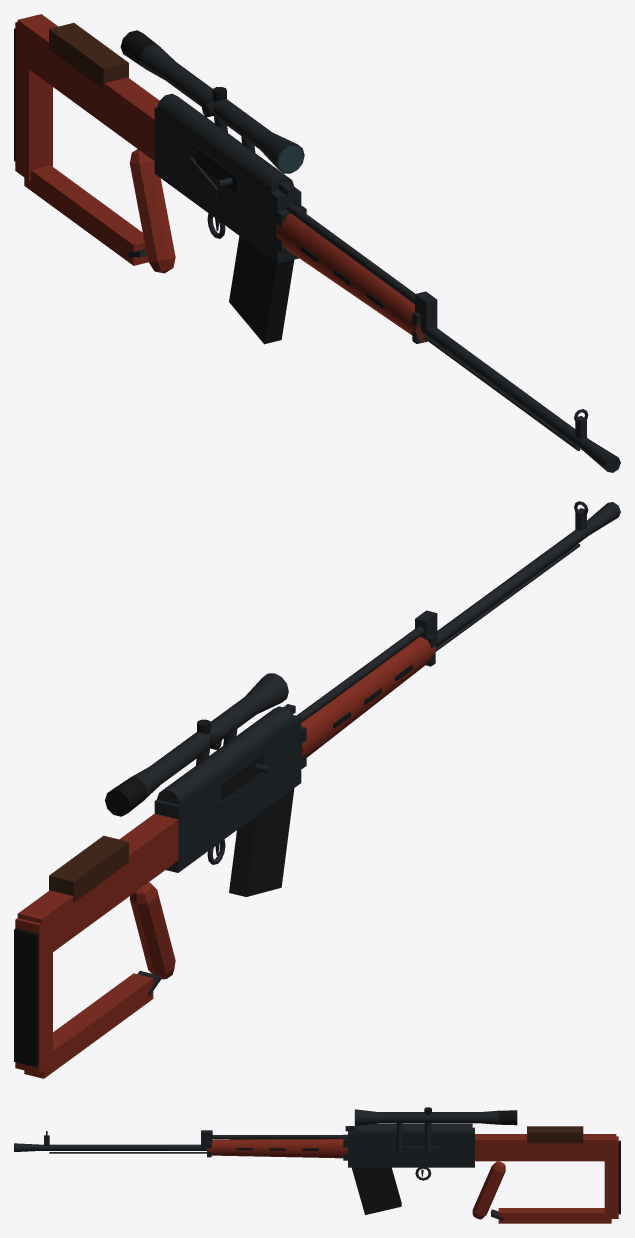
The model's file is dragunov-svd.glb.
3 views of the same model, one above another, from view 1: azimuth 30°, elevation 25°; view 2: azimuth 150°, elevation 25°; view 3: azimuth 270°, elevation 25° (orthographic). The views are drawn at different scales.
Visible parts, largest first — view 1: Mesh_Stock, Mesh_Receiver, Mesh_Handguard, Mesh_Magazine, Mesh_ReceiverCover, Mesh_CheekRest, Mesh_Barrel, Mesh_ScopeBody, Mesh_GasTube, Mesh_ScopeFrontFlare, Mesh_CleaningRod, Mesh_BoltCarrier (+4 smaller); view 2: Mesh_Stock, Mesh_Receiver, Mesh_Magazine, Mesh_Handguard, Mesh_ReceiverCover, Mesh_ButtPad, Mesh_CheekRest, Mesh_ScopeBody, Mesh_Barrel, Mesh_GasTube, Mesh_ScopeEyeCup, Mesh_ScopeFrontFlare; view 3: Mesh_Stock, Mesh_Receiver, Mesh_Handguard, Mesh_Magazine, Mesh_ScopeBody, Mesh_ReceiverCover, Mesh_Barrel, Mesh_CheekRest, Mesh_GasTube, Mesh_ScopeRail, Mesh_ScopeFrontFlare, Mesh_CleaningRod (+6 smaller).
Boxes of the visible parts, left/top/right/bottom form: Mesh_Stock: left=15, top=14, right=175, bottom=273; Mesh_Receiver: left=154, top=107, right=301, bottom=263; Mesh_Handguard: left=275, top=213, right=427, bottom=342; Mesh_Magazine: left=229, top=236, right=294, bottom=344; Mesh_ReceiverCover: left=157, top=93, right=294, bottom=192; Mesh_CheekRest: left=49, top=23, right=128, bottom=89; Mesh_Barrel: left=420, top=326, right=588, bottom=449; Mesh_ScopeBody: left=160, top=60, right=271, bottom=148; Mesh_GasTube: left=285, top=203, right=415, bottom=304; Mesh_ScopeFrontFlare: left=258, top=132, right=304, bottom=173; Mesh_CleaningRod: left=424, top=336, right=580, bottom=450; Mesh_BoltCarrier: left=196, top=147, right=238, bottom=194; Mesh_Stock: left=15, top=813, right=178, bottom=1078; Mesh_Receiver: left=154, top=715, right=301, bottom=872; Mesh_Magazine: left=229, top=788, right=294, bottom=896; Mesh_Handguard: left=301, top=636, right=436, bottom=759; Mesh_ReceiverCover: left=157, top=706, right=294, bottom=805; Mesh_ButtPad: left=14, top=928, right=38, bottom=1066; Mesh_CheekRest: left=49, top=835, right=128, bottom=902; Mesh_ScopeBody: left=149, top=695, right=261, bottom=784; Mesh_Barrel: left=435, top=525, right=590, bottom=647; Mesh_GasTube: left=297, top=626, right=424, bottom=722; Mesh_ScopeEyeCup: left=105, top=777, right=147, bottom=816; Mesh_ScopeFrontFlare: left=245, top=673, right=288, bottom=713; Mesh_Stock: left=472, top=1134, right=618, bottom=1223; Mesh_Receiver: left=348, top=1127, right=474, bottom=1167; Mesh_Handguard: left=207, top=1139, right=347, bottom=1158; Mesh_Magazine: left=352, top=1167, right=401, bottom=1214; Mesh_ScopeBody: left=378, top=1112, right=479, bottom=1123; Mesh_ReceiverCover: left=355, top=1123, right=472, bottom=1133; Mesh_Barrel: left=42, top=1144, right=206, bottom=1150; Mesh_CheekRest: left=527, top=1126, right=583, bottom=1143; Mesh_GasTube: left=212, top=1135, right=347, bottom=1139; Mesh_ScopeRail: left=400, top=1146, right=437, bottom=1156; Mesh_ScopeFrontFlare: left=355, top=1109, right=378, bottom=1125; Mesh_CleaningRod: left=49, top=1152, right=206, bottom=1153.
Size of the model in its own units: 0.06 by 0.2685 by 1.29.
